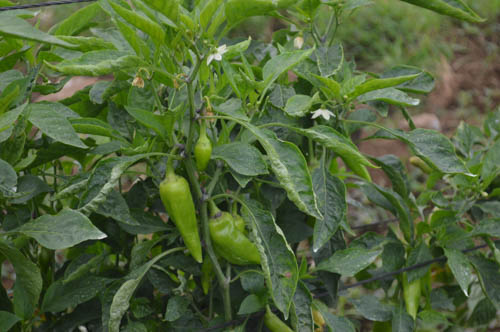ChiliPepper: (161, 178, 202, 263), (209, 216, 266, 269), (189, 142, 210, 171)
